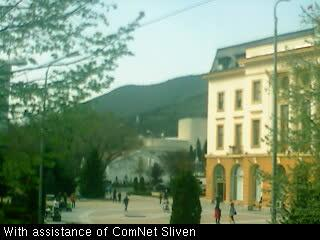person: (214, 203, 222, 224), (228, 202, 236, 223), (71, 193, 77, 209), (164, 189, 170, 203), (215, 191, 221, 204), (124, 195, 129, 210), (159, 190, 164, 205), (112, 189, 117, 203), (259, 196, 263, 211), (63, 191, 67, 205), (118, 191, 122, 204), (58, 191, 62, 202)
